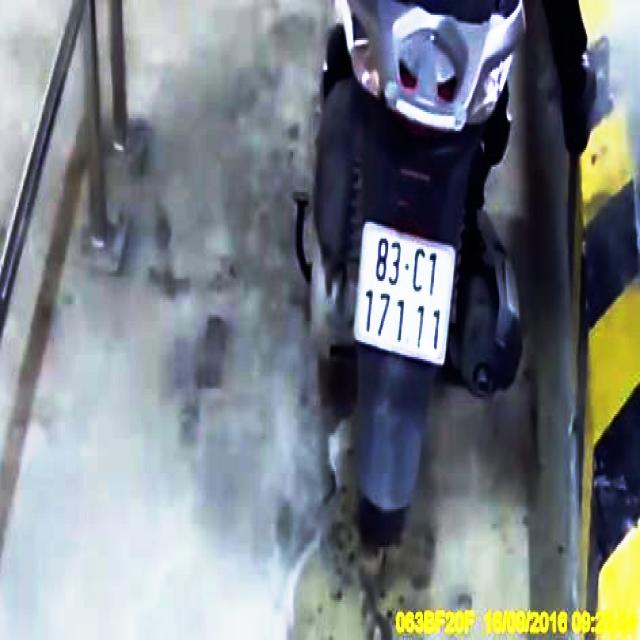license_plate: (356, 223, 458, 366)
